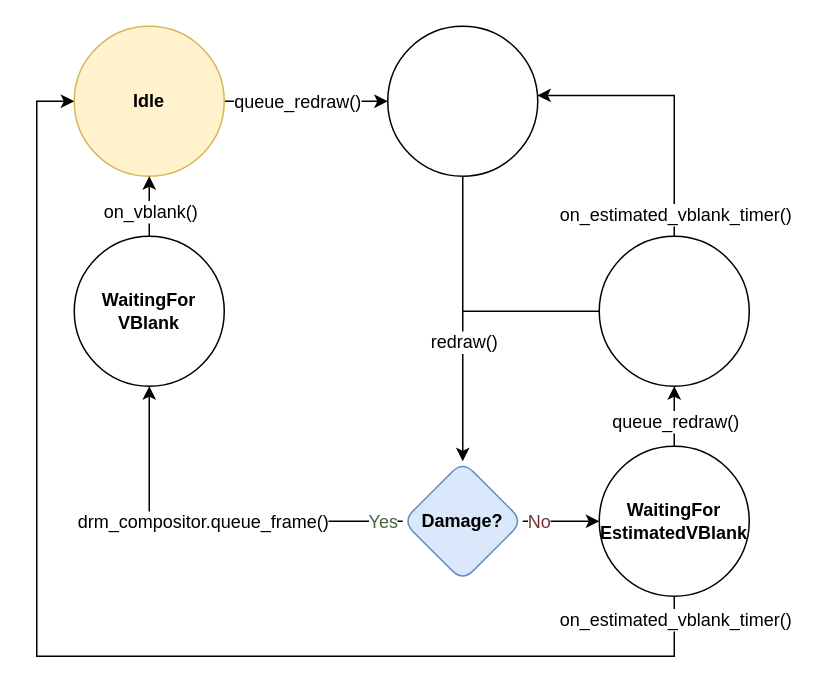
The diagram is 816 pixels wide and 695 high, and some of its shapes have lost their labels. The shapes that lost their labels are listed below. From the top down, each one's centre as x and y in pixels, then its label:
At (462,100): "Queued".
At (673,310): "WaitingFor EstimatedVBlank AndQueued".
